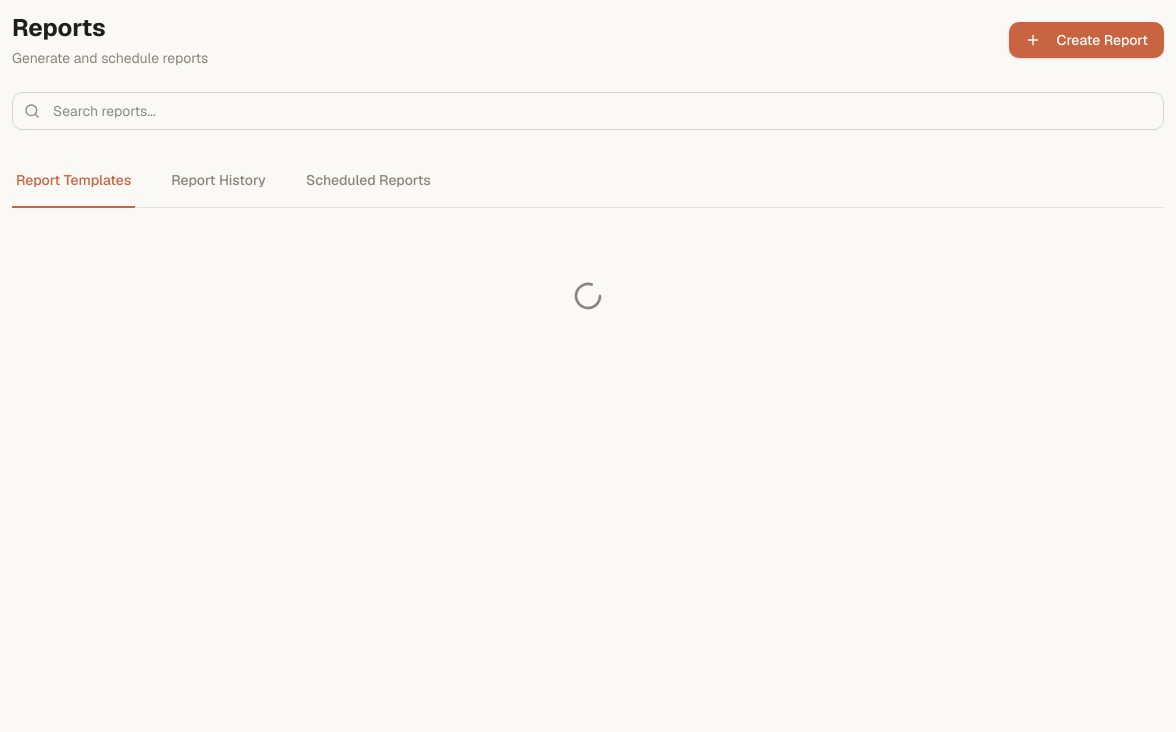
ReportsPage › History Tab › displays execution statuses
Expected: the button "Report Templates" is shown, top-left (12, 154), bottom-right (135, 208)
Click the button "Report History": click(218, 181) top-left (167, 154), bottom-right (270, 208)
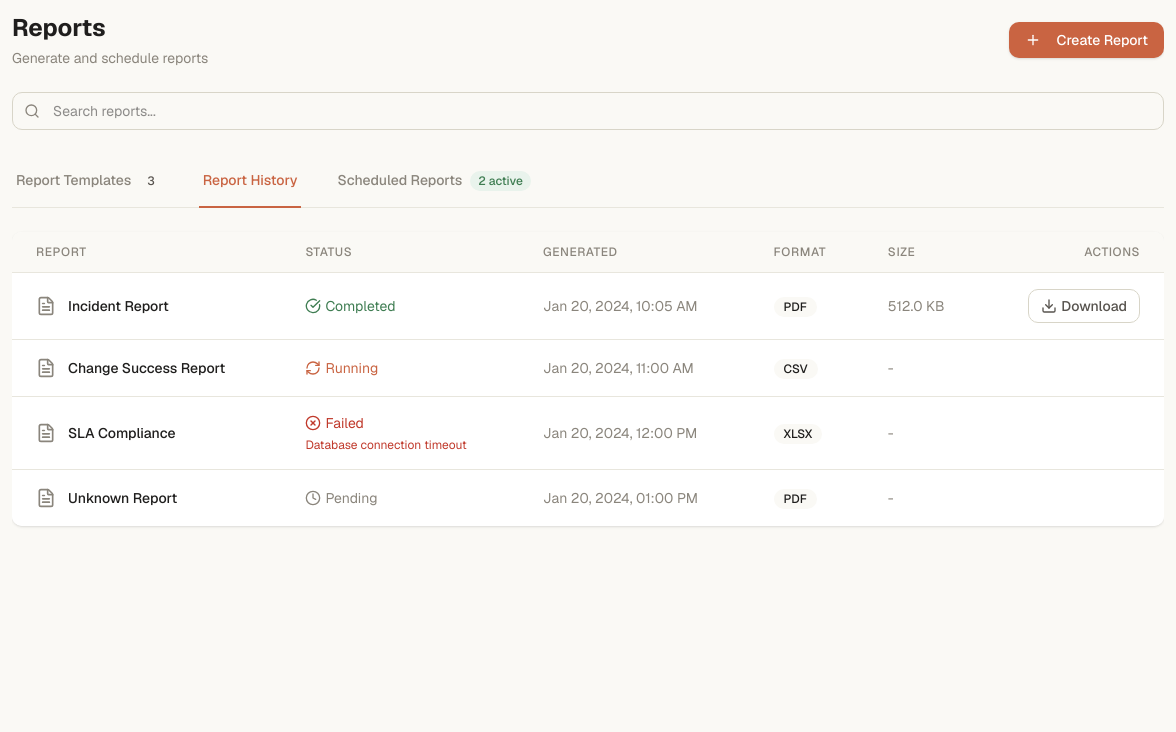
Expected: the text "Incident Report" is shown, top-left (68, 296), bottom-right (169, 316)
Expected: the text "Completed" is shown, top-left (305, 297), bottom-right (396, 315)
Expected: the text "Running" is shown, top-left (305, 359), bottom-right (378, 377)
